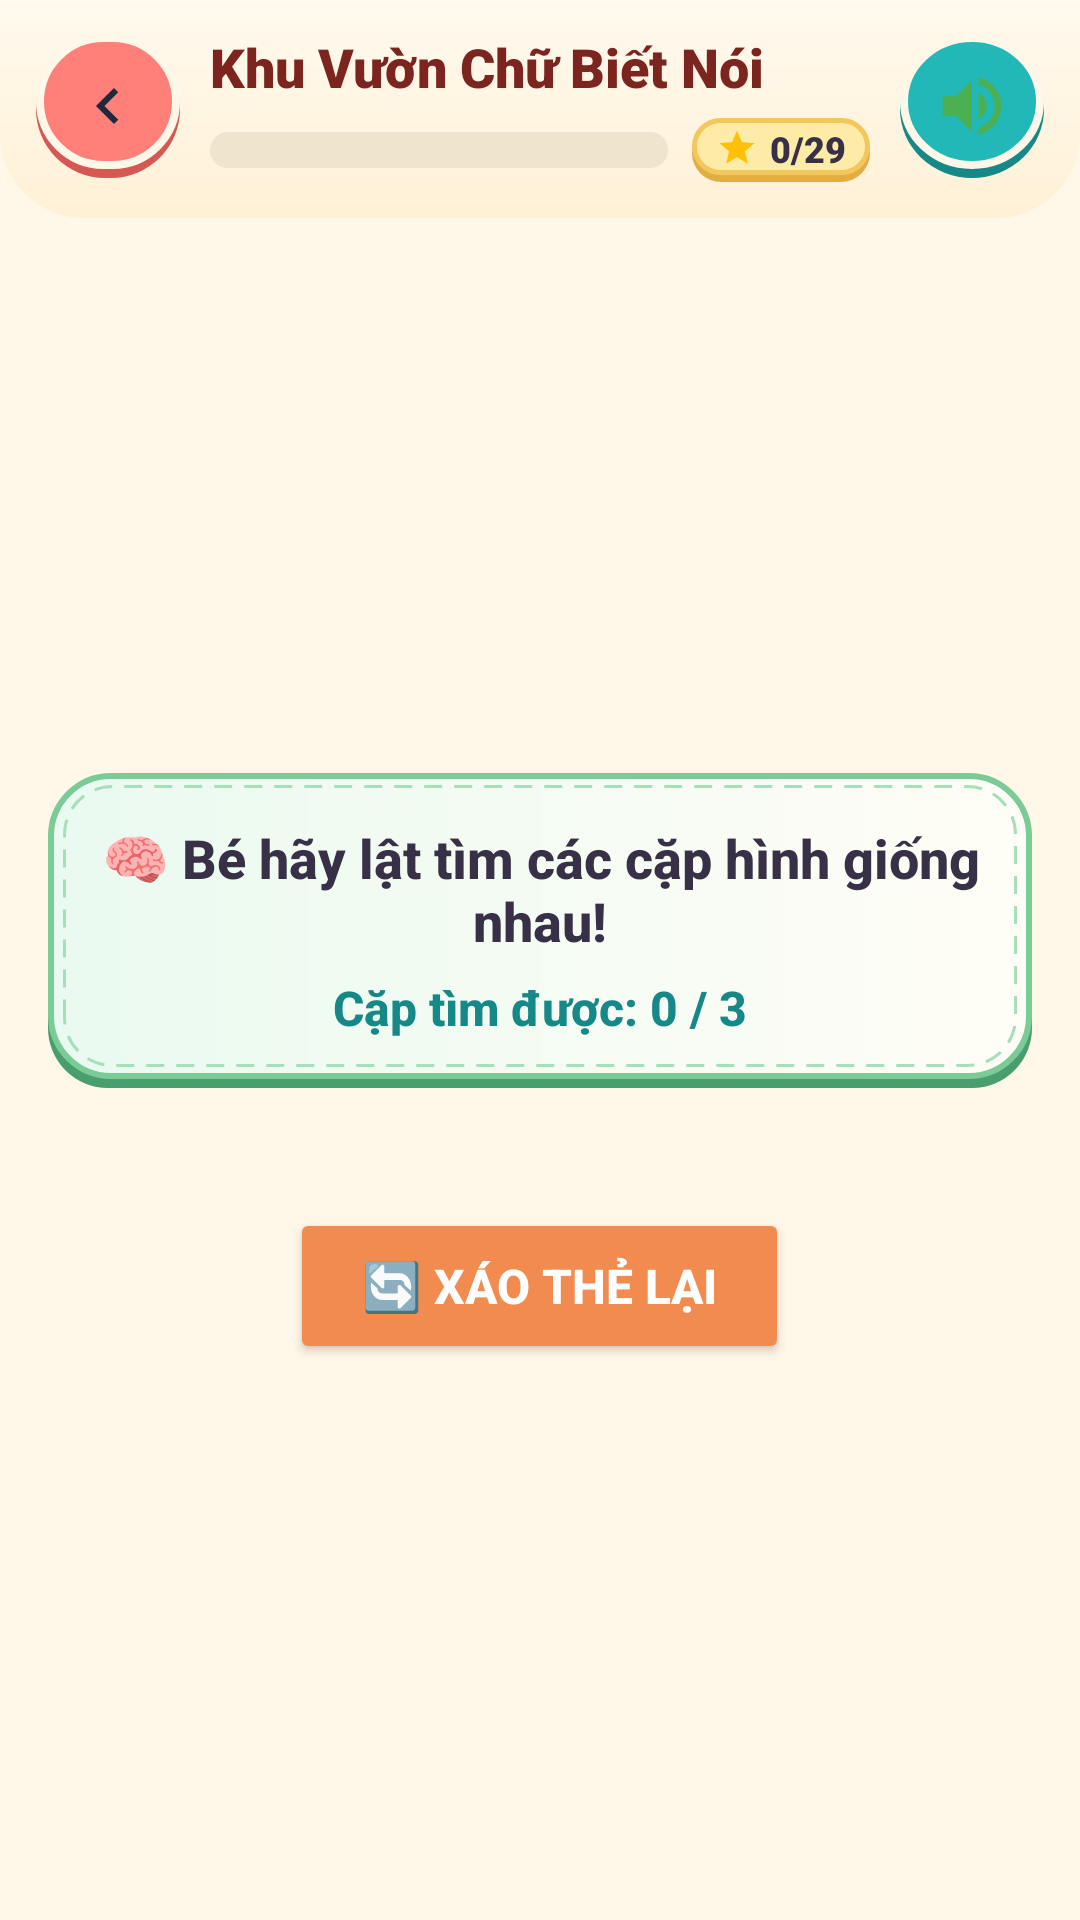

Icon bounding boxes for this 1080*1920 phone screenshot, format (x1, y1, x2, y2):
Bật hoặc tắt âm thanh ứng dụng: (900, 42, 1044, 178)
Quay lại: (36, 42, 180, 178)
star: (720, 131, 754, 164)
